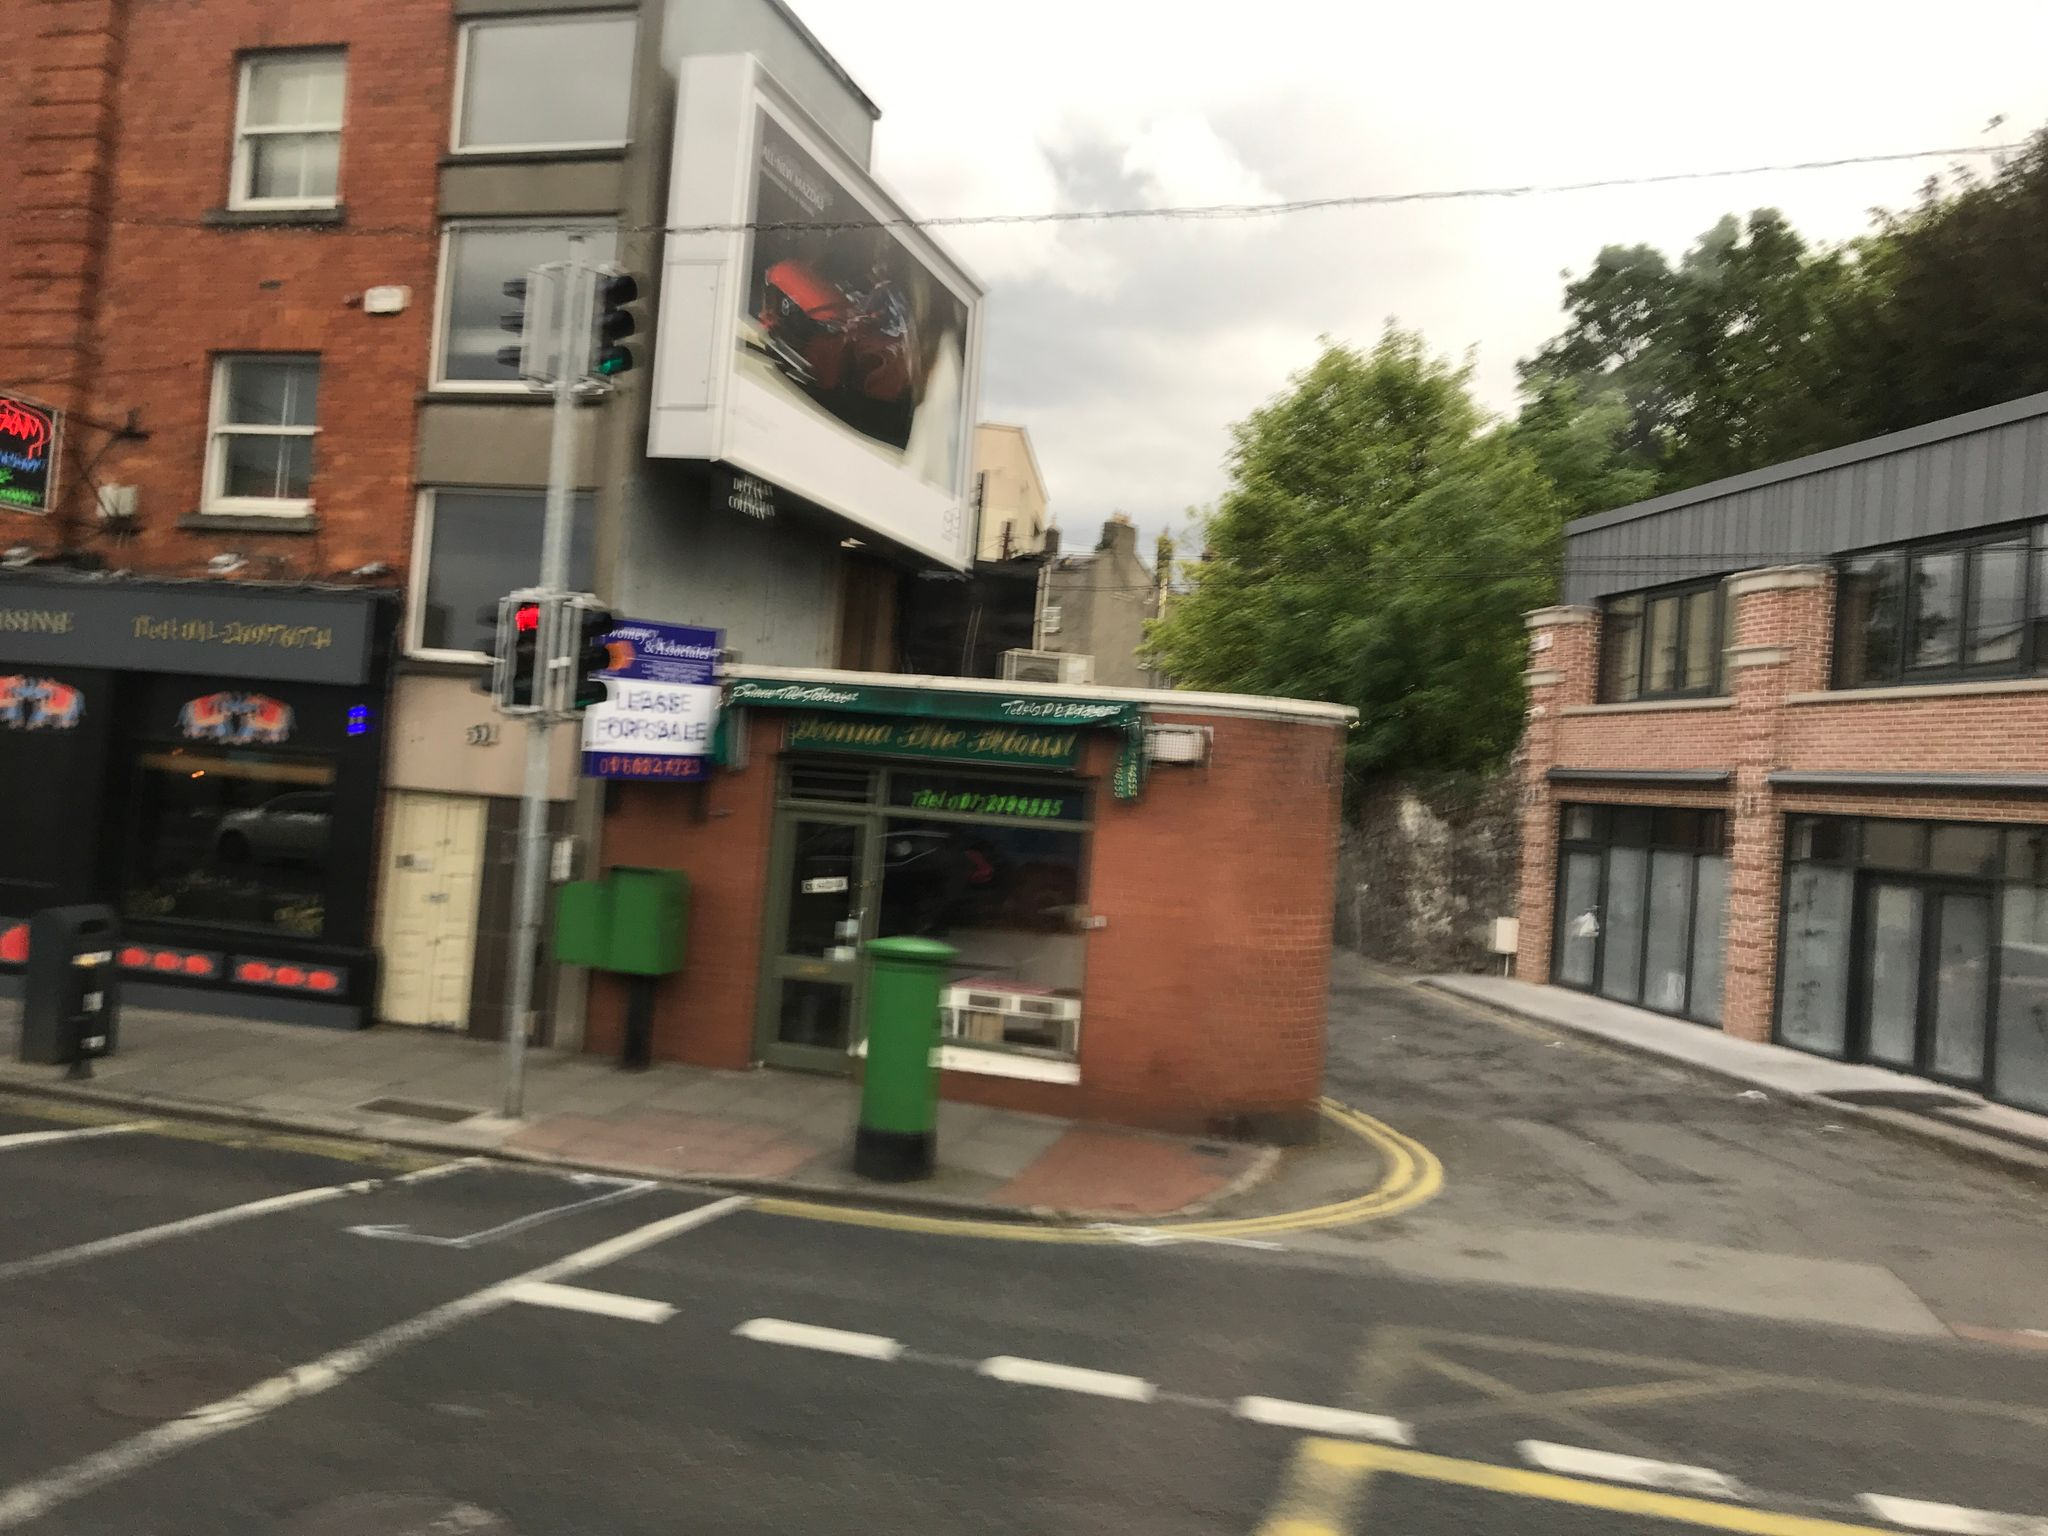property sign: (584, 578, 740, 805)
